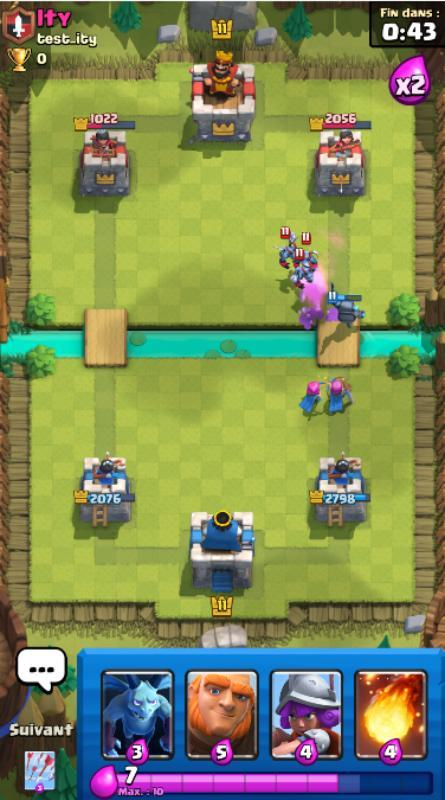archere: (298, 375, 330, 414), (325, 375, 348, 414)
gargouille: (273, 226, 299, 269), (293, 232, 319, 274), (289, 248, 313, 291)
mini_PEKKA: (327, 281, 365, 329)
